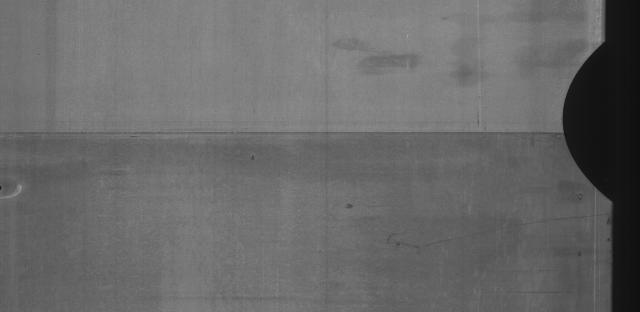welding_line: (0, 122, 572, 150)
